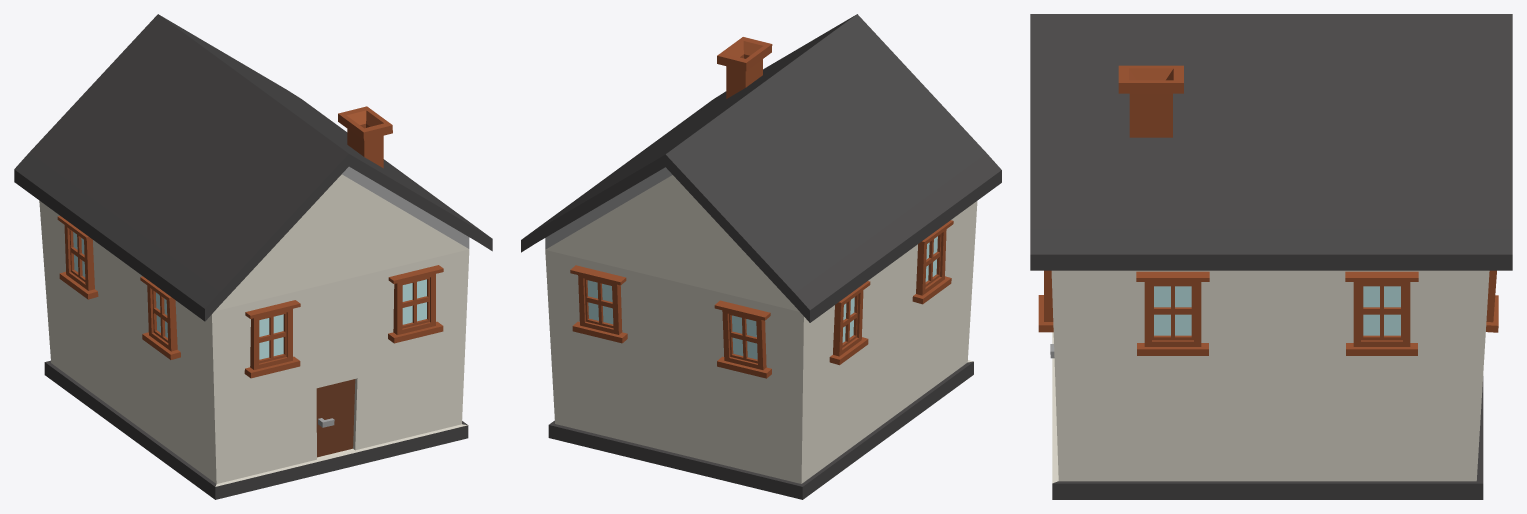
The model's file is house_a.glb.
3 views of the same model, side by side, from view 1: azimuth 30°, elevation 25°; view 2: azimuth 150°, elevation 25°; view 3: azimuth 270°, elevation 25° (orthographic). The views are drawn at different scales.
Visible parts, largest first — view 1: house_a; view 2: house_a; view 3: house_a.
Boxes of the visible parts, x1,y1,x2,y2 form: house_a: (14,14,492,499); house_a: (521,14,1001,499); house_a: (1030,14,1512,499).
Size of the model in its own units: 1.25 by 1.34 by 1.44.
1 material, 1 textured.
